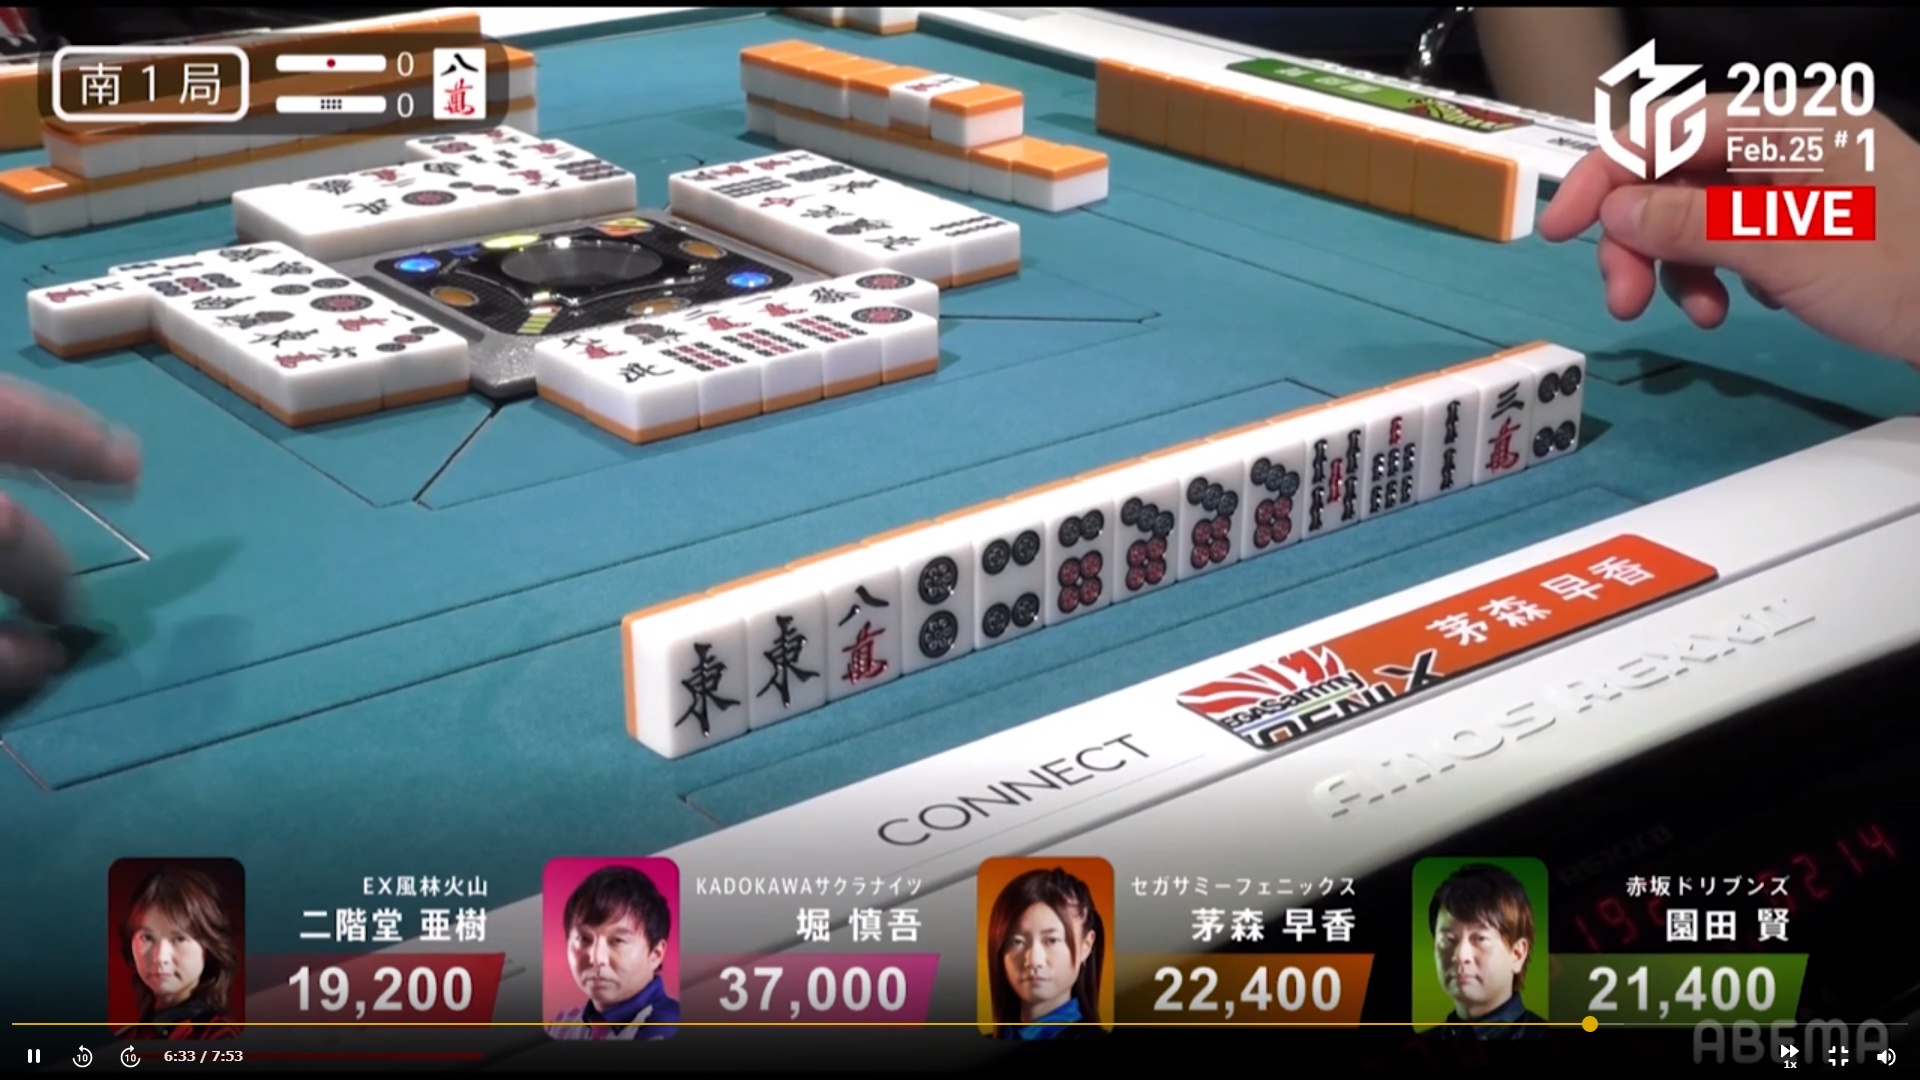2p: (898, 542, 972, 673)
2s: (1419, 389, 1476, 498)
3m: (1476, 373, 1528, 480)
4p: (975, 520, 1051, 647), (1527, 357, 1580, 463)
5s: (1303, 426, 1360, 531)
6p: (1051, 497, 1105, 622)
7p: (1178, 460, 1245, 585), (1109, 479, 1171, 597), (1244, 438, 1298, 558)
7s: (1360, 405, 1420, 520)
8m: (825, 564, 897, 695)
hand_nan_1: (40, 33, 255, 123)
round_0: (262, 88, 423, 127)
team_segasammy: (1175, 616, 1469, 754)
ton: (658, 620, 746, 746), (749, 593, 820, 724)
